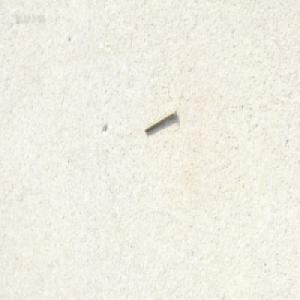Bolt: (144, 107, 177, 134)
